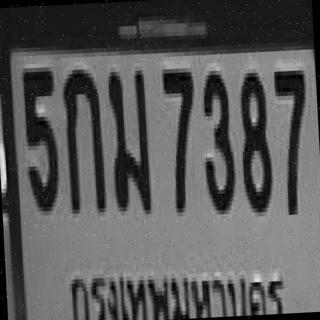A01: (60, 65, 105, 210)
A33: (106, 64, 151, 210)
N03: (198, 66, 235, 211)
N05: (21, 63, 58, 208)
N07: (272, 66, 309, 211), (161, 64, 198, 209)
N08: (237, 68, 272, 209)
